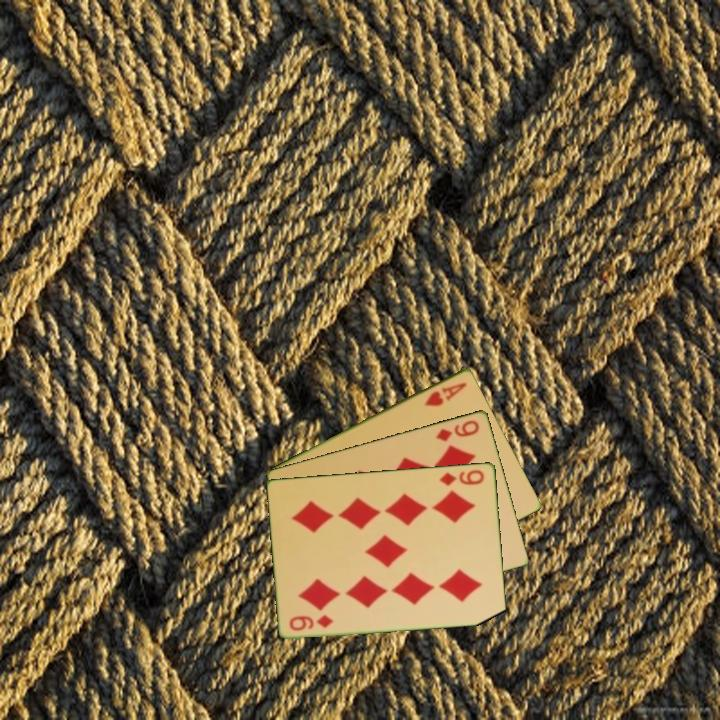9d: (433, 416, 482, 444), (436, 466, 487, 488), (286, 611, 337, 633)
Ah: (421, 378, 470, 409)
